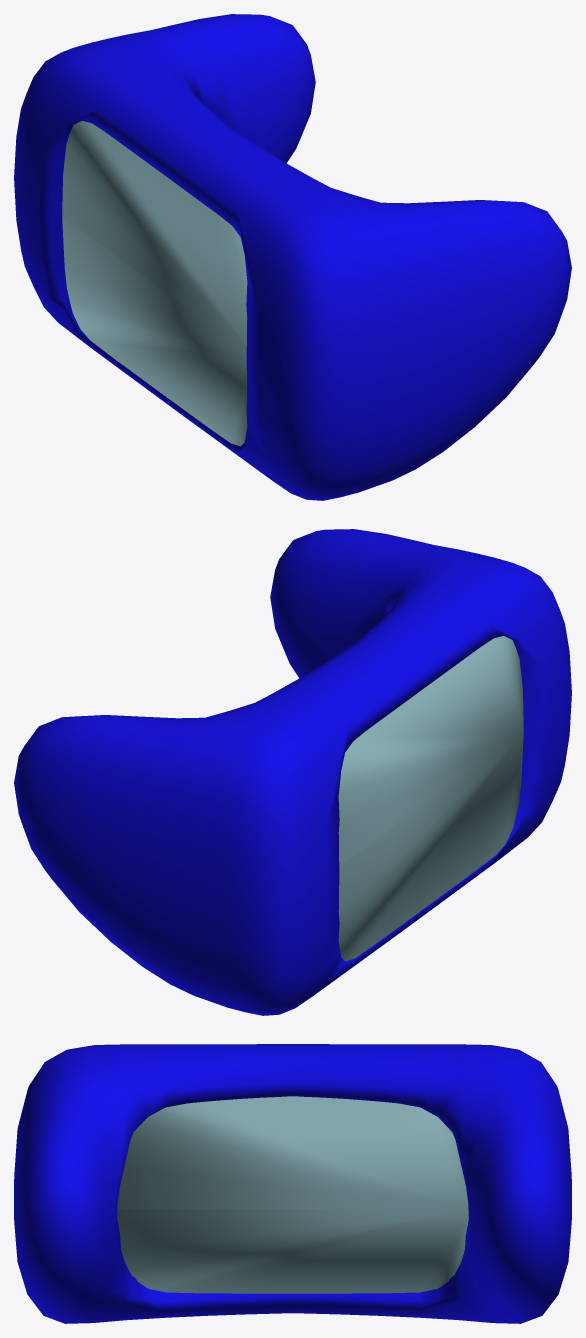
Rendered from BLUE_Glass_Smooth.fbx.
3 views of the same model, one above another, from view 1: azimuth 30°, elevation 25°; view 2: azimuth 150°, elevation 25°; view 3: azimuth 270°, elevation 25° (orthographic). The views are drawn at different scales.
Parts seen in each view (by area): view 1: Glasses_Trans_1, Glasses_Trans_2; view 2: Glasses_Trans_1, Glasses_Trans_2; view 3: Glasses_Trans_1, Glasses_Trans_2.
Boxes of the visible parts, <box> form: Glasses_Trans_1: <box>14,14,571,500</box>; Glasses_Trans_2: <box>62,121,247,446</box>; Glasses_Trans_1: <box>14,529,571,1015</box>; Glasses_Trans_2: <box>338,636,523,961</box>; Glasses_Trans_1: <box>14,1044,571,1323</box>; Glasses_Trans_2: <box>117,1096,468,1293</box>.
Size of the model in its own units: 64.43 by 60 by 118.
